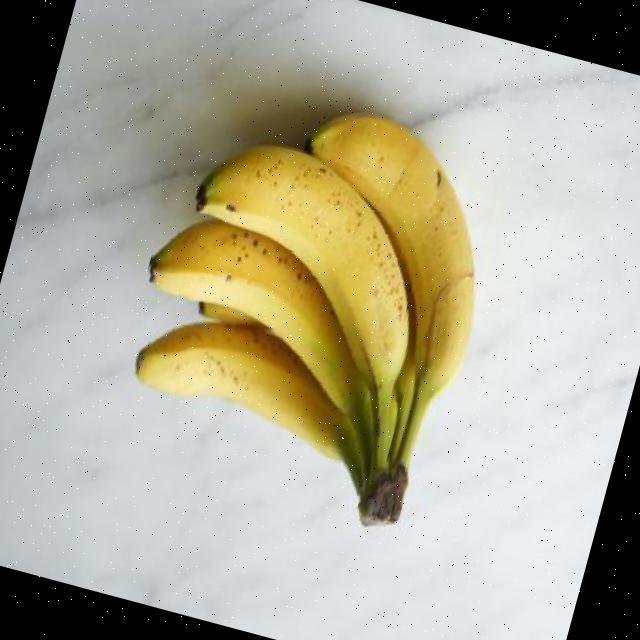banana: (194, 141, 411, 471), (303, 107, 475, 522), (145, 214, 373, 410), (135, 323, 345, 459)
